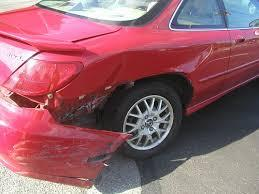Bumper: (0, 84, 135, 194)
Fender: (53, 42, 220, 101)
